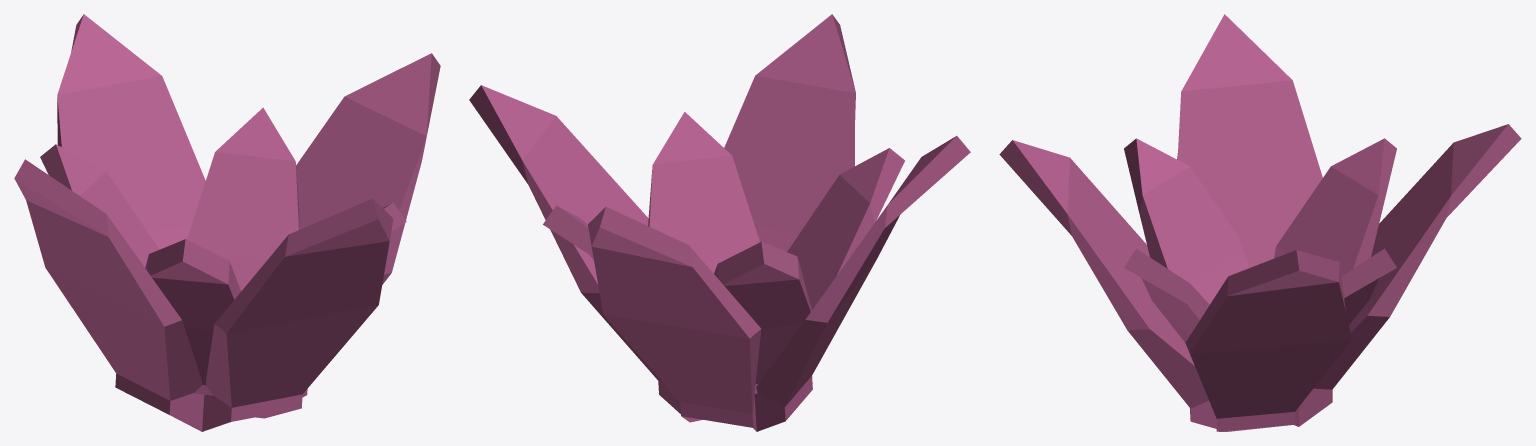
The model's file is Cactus_Crop.glb.
The picture shows the model from 3 angles, left to right: view 1: azimuth 30°, elevation 25°; view 2: azimuth 150°, elevation 25°; view 3: azimuth 270°, elevation 25°; orthographic projection. The views are drawn at different scales.
Visible parts, largest first — view 1: Cactus_Crop; view 2: Cactus_Crop; view 3: Cactus_Crop.
Part boxes in pixels (<box>): Cactus_Crop: <box>14,14,440,431</box>; Cactus_Crop: <box>469,14,970,431</box>; Cactus_Crop: <box>999,14,1521,431</box>.
Size of the model in its own units: 0.3619 by 0.2362 by 0.366.
